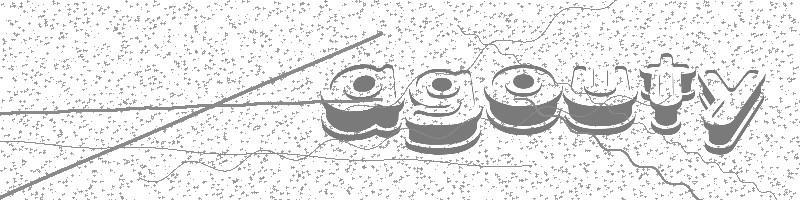a: (320, 63, 404, 142)
g: (405, 67, 484, 156)
o: (484, 63, 564, 136)
t: (639, 52, 697, 136)
u: (562, 65, 639, 136)
y: (697, 68, 765, 157)
